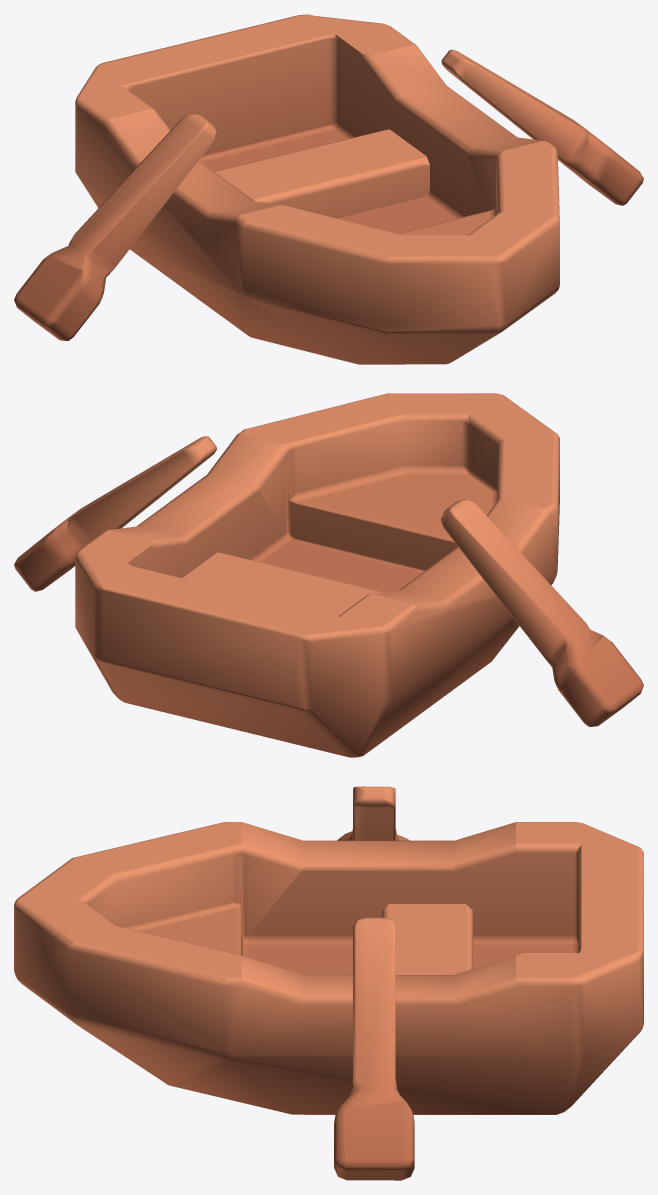
Rendered from boat-row-small.glb.
The picture shows the model from 3 angles, top to bottom: view 1: azimuth 30°, elevation 25°; view 2: azimuth 150°, elevation 25°; view 3: azimuth 270°, elevation 25°; orthographic projection. The views are drawn at different scales.
Parts seen in each view (by area): view 1: boat-row-small, paddles; view 2: boat-row-small, paddles; view 3: boat-row-small, paddles.
Part boxes in pixels (bbox=[...]): boat-row-small: bbox=[75, 14, 559, 364]; paddles: bbox=[14, 49, 643, 341]; boat-row-small: bbox=[75, 393, 559, 757]; paddles: bbox=[14, 436, 643, 726]; boat-row-small: bbox=[14, 822, 643, 1114]; paddles: bbox=[334, 786, 414, 1180].
Bounding box in the file's own units: 2.72 × 0.833 × 2.36.
1 material, 1 textured.
